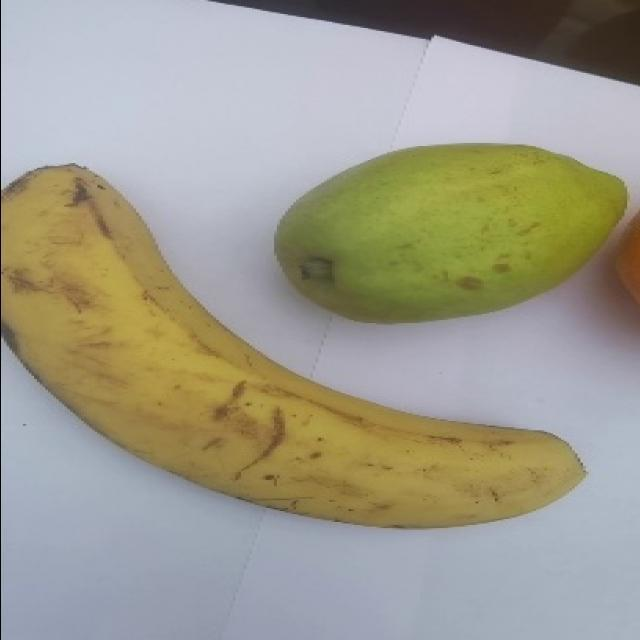Banana: (0, 162, 594, 533)
